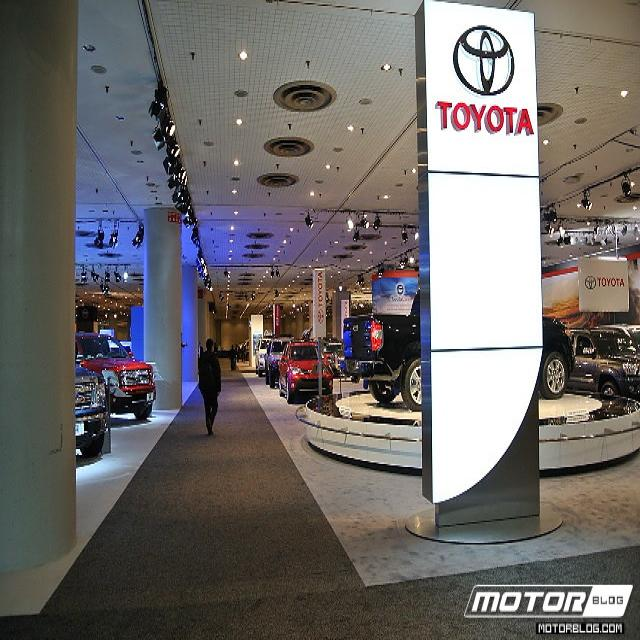Vehicle: (341, 289, 575, 413), (76, 334, 157, 419), (73, 336, 155, 418), (563, 326, 640, 395), (570, 326, 640, 395), (278, 342, 334, 404), (75, 360, 107, 457), (543, 316, 574, 404), (264, 338, 292, 388), (255, 338, 271, 379), (593, 324, 632, 338), (322, 343, 344, 366), (627, 324, 640, 347)
